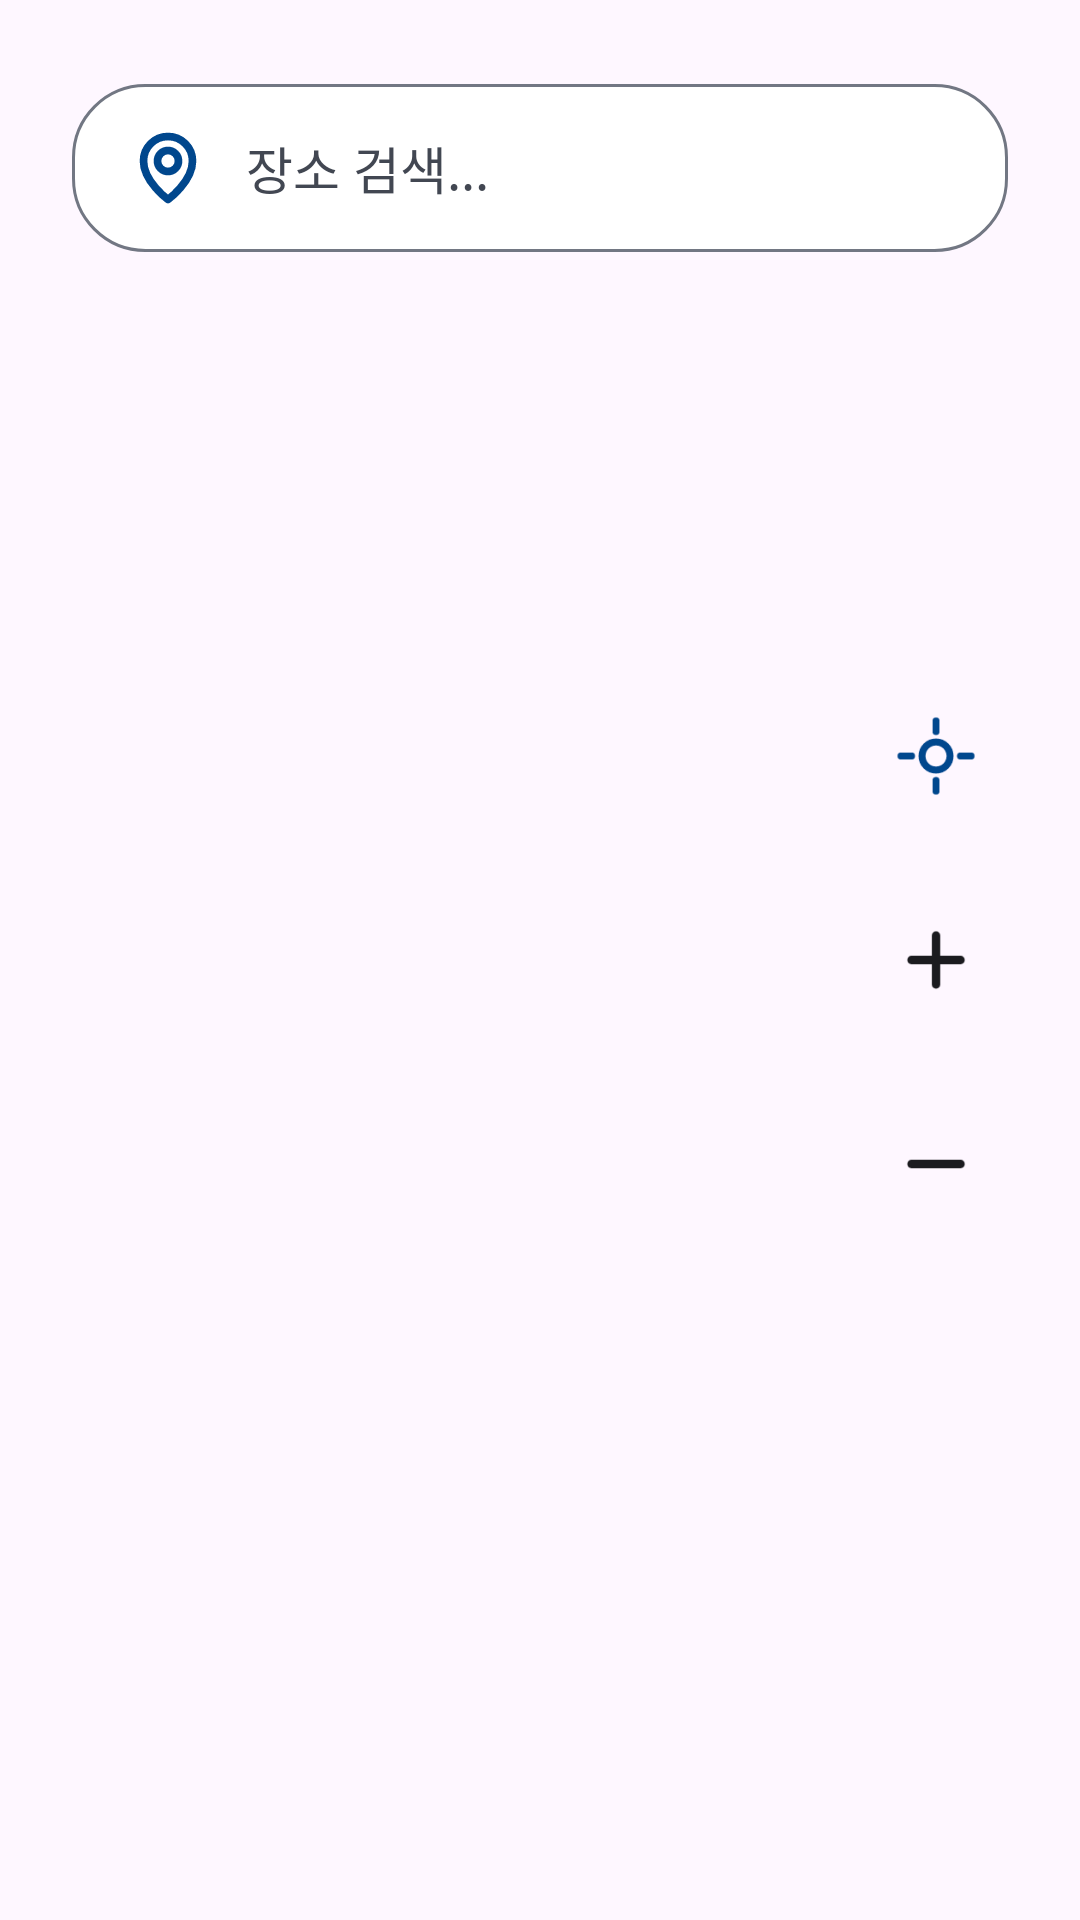

Icon click points for this 1080 × 1920 phone screenshot, format (x,y):
location: (168,168)
축소: (936,1164)
현재 위치: (936,756)
확대: (936,960)
